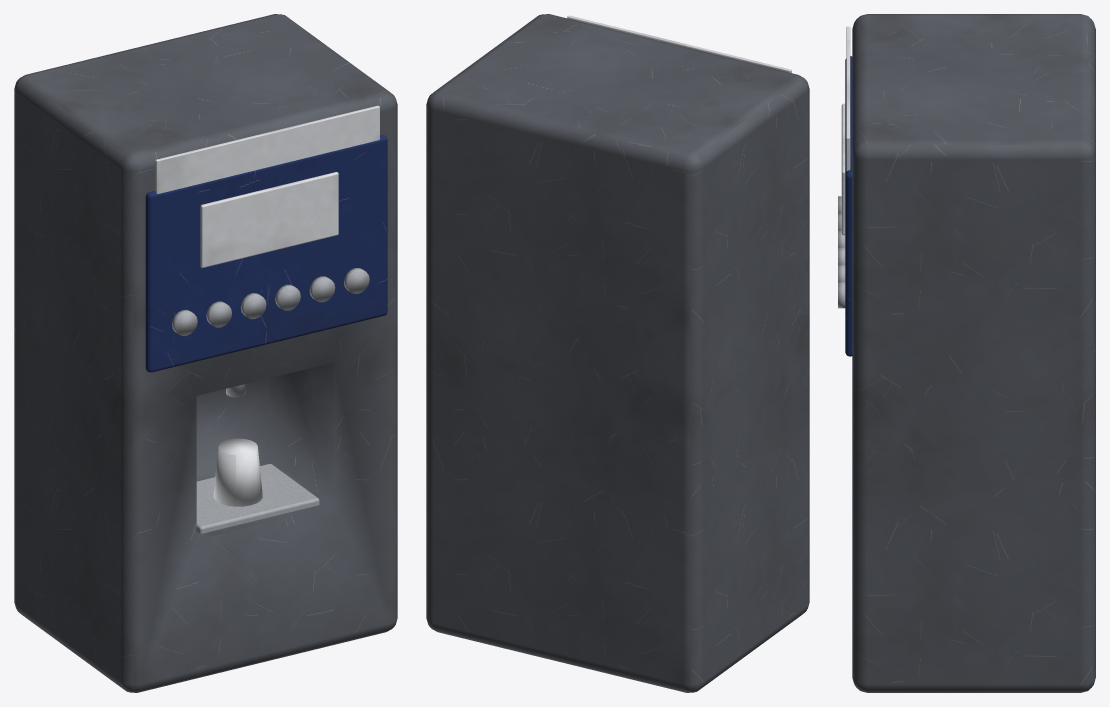
File: CoffeeMachine.fbx
3 views of the same model, side by side, from view 1: azimuth 30°, elevation 25°; view 2: azimuth 150°, elevation 25°; view 3: azimuth 270°, elevation 25° (orthographic). The views are drawn at different scales.
Parts seen in each view (by area): view 1: CoffeeMachine_MetalGrey, CoffeeMachine_MetalNavy, CoffeeMachine_PlasticWhite_glow.004, CoffeeMachine_Steel, CoffeeMachine_PlasticWhite; view 2: CoffeeMachine_MetalGrey, CoffeeMachine_PlasticWhite_glow.004; view 3: CoffeeMachine_MetalGrey, CoffeeMachine_MetalNavy, CoffeeMachine_PlasticWhite_glow.004, CoffeeMachine_Steel.
Part boxes in pixels (x1,y1,x2,y2): CoffeeMachine_MetalGrey: (14, 14, 397, 692); CoffeeMachine_MetalNavy: (145, 135, 387, 372); CoffeeMachine_PlasticWhite_glow.004: (155, 105, 379, 267); CoffeeMachine_Steel: (172, 268, 369, 533); CoffeeMachine_PlasticWhite: (213, 438, 262, 506); CoffeeMachine_MetalGrey: (426, 14, 809, 692); CoffeeMachine_PlasticWhite_glow.004: (567, 15, 791, 72); CoffeeMachine_MetalGrey: (852, 14, 1095, 692); CoffeeMachine_MetalNavy: (845, 56, 852, 356); CoffeeMachine_PlasticWhite_glow.004: (841, 26, 850, 235); CoffeeMachine_Steel: (838, 196, 845, 308).
Bounding box in the file's own units: 320 × 600 × 254.
Materials: 5 (5 with a texture image).
